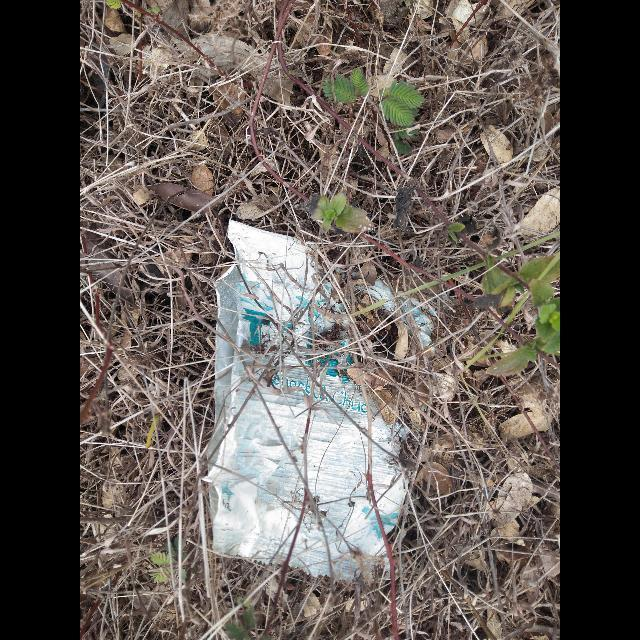Plastic: (206, 220, 439, 580)
